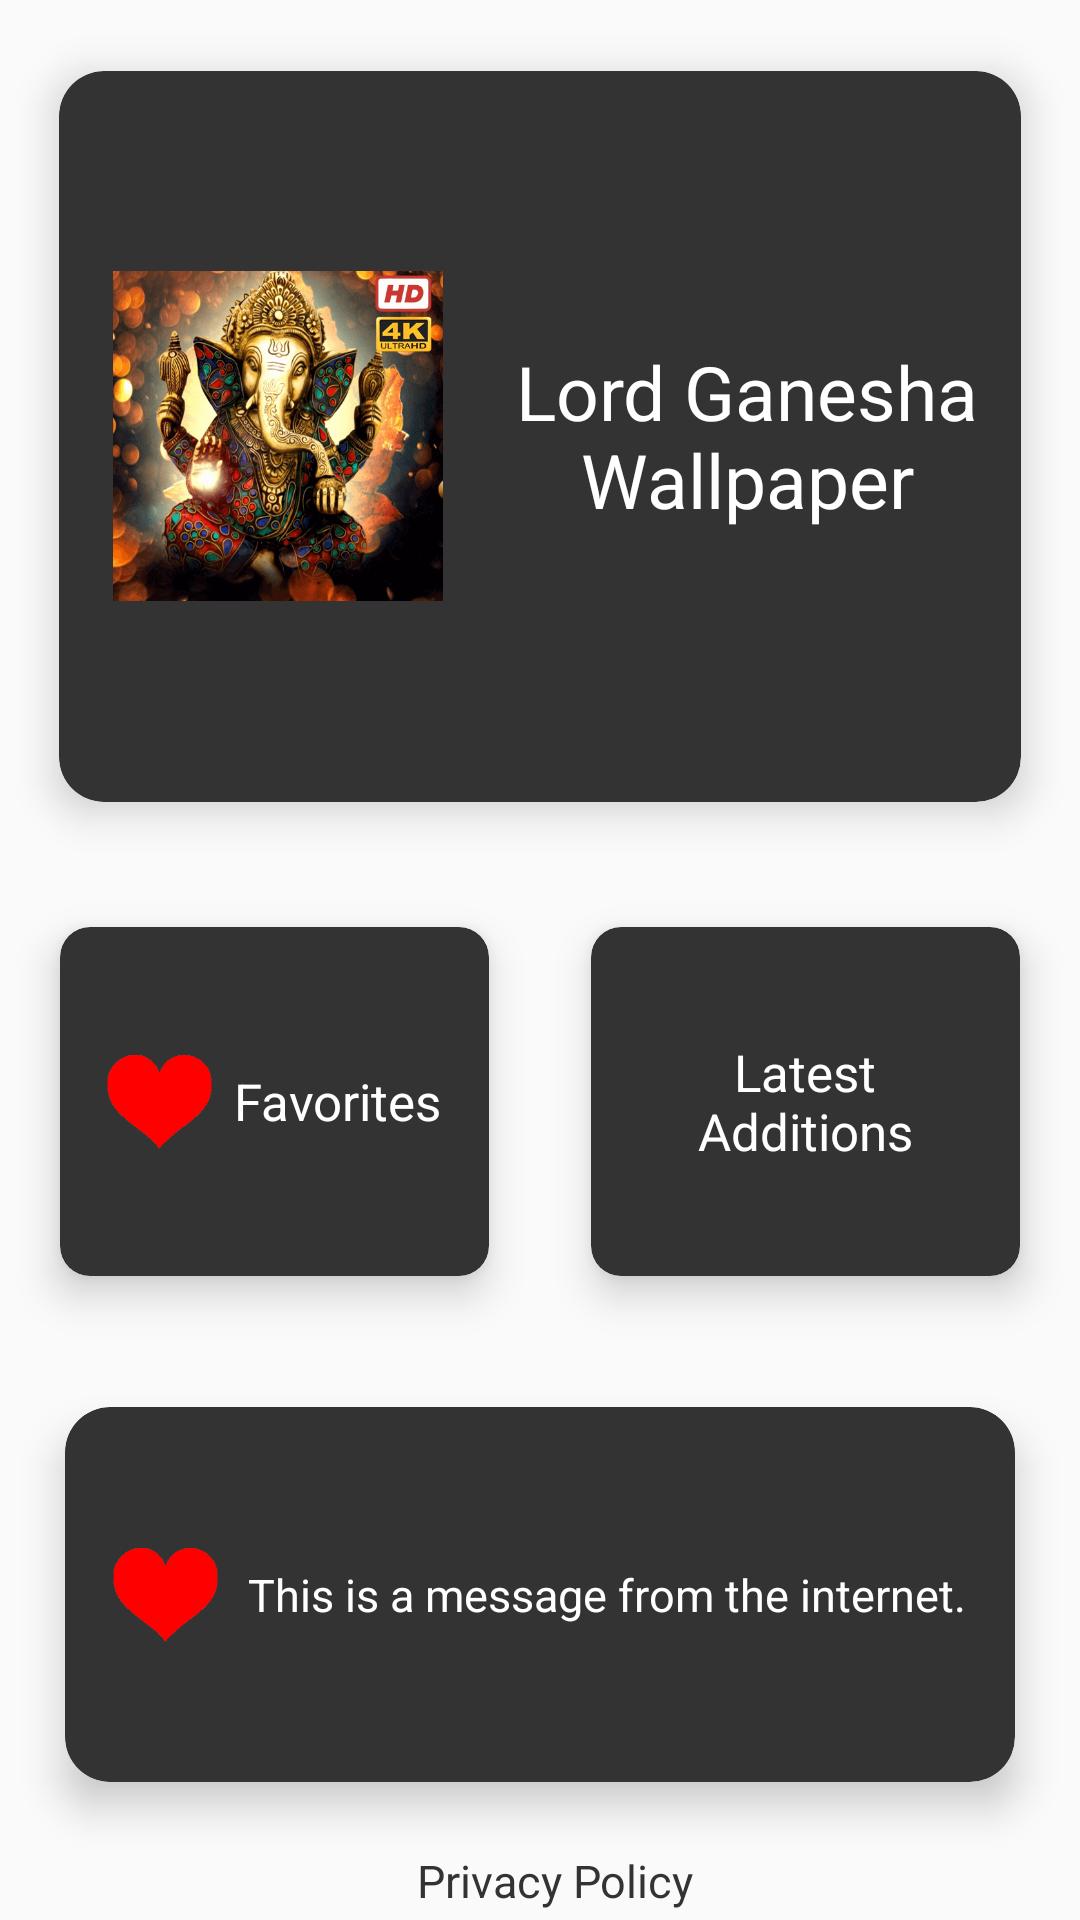

Where icons sit on this 1080w x 1920h app screen, as [x1, y1, x2, y2]:
heart: [107, 1055, 212, 1149], [113, 1548, 218, 1642]
